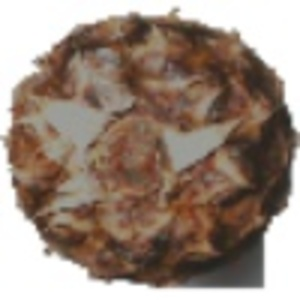abacaxi: (4, 9, 294, 282)
